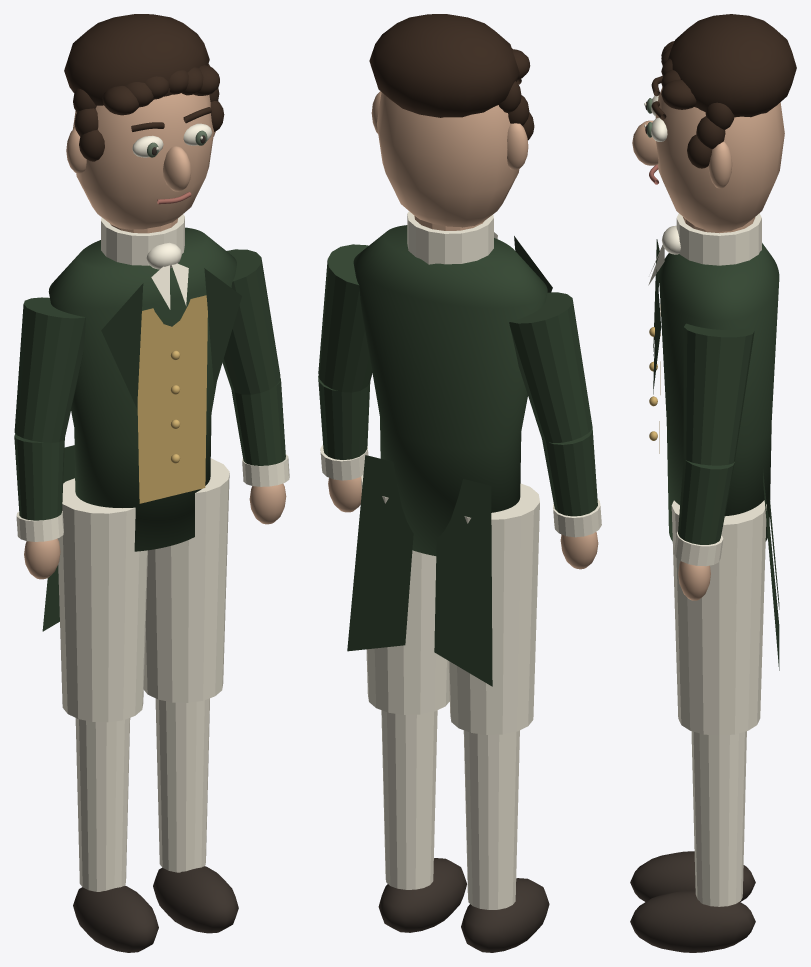
Rendered from darcy.glb.
The picture shows the model from 3 angles, left to right: view 1: azimuth 30°, elevation 25°; view 2: azimuth 150°, elevation 25°; view 3: azimuth 270°, elevation 25°; orthographic projection. The views are drawn at different scales.
Parts seen in each view (by area): view 1: darcy fitted coat, darcy breeches, darcy breeches.001, darcy waistcoat, darcy head, darcy stocking.001, darcy stocking, darcy hair crown, darcy sleeve upper, darcy sleeve upper.001, darcy shoe, darcy shoe.001 (+15 smaller); view 2: darcy fitted coat, darcy head, darcy breeches, darcy hair crown, darcy coat tail, darcy coat tail.001, darcy stocking.001, darcy stocking, darcy sleeve upper, darcy breeches.001, darcy sleeve upper.001, darcy shoe.001 (+9 smaller); view 3: darcy fitted coat, darcy breeches.001, darcy head, darcy hair crown, darcy stocking.001, darcy sleeve upper.001, darcy shoe.001, darcy sleeve lower.001, darcy high shirt collar, darcy shoe, darcy cuff.001, darcy hand.001 (+9 smaller).
Boxes of the visible parts, bbox=[...] form: darcy fitted coat: bbox=[48, 227, 236, 551]; darcy breeches: bbox=[57, 478, 147, 722]; darcy breeches.001: bbox=[143, 458, 229, 702]; darcy waistcoat: bbox=[137, 295, 207, 503]; darcy head: bbox=[72, 93, 213, 229]; darcy stocking.001: bbox=[155, 698, 209, 872]; darcy stocking: bbox=[75, 718, 130, 891]; darcy hair crown: bbox=[64, 14, 209, 105]; darcy sleeve upper: bbox=[14, 297, 85, 442]; darcy sleeve upper.001: bbox=[222, 249, 280, 394]; darcy shoe: bbox=[73, 885, 158, 952]; darcy shoe.001: bbox=[153, 866, 238, 933]; darcy fitted coat: bbox=[353, 225, 547, 555]; darcy head: bbox=[377, 92, 519, 227]; darcy breeches: bbox=[448, 483, 539, 734]; darcy hair crown: bbox=[369, 14, 519, 117]; darcy coat tail: bbox=[434, 479, 492, 686]; darcy coat tail.001: bbox=[347, 455, 413, 651]; darcy stocking.001: bbox=[381, 710, 437, 889]; darcy stocking: bbox=[463, 730, 519, 909]; darcy sleeve upper: bbox=[509, 292, 592, 442]; darcy breeches.001: bbox=[361, 474, 449, 714]; darcy sleeve upper.001: bbox=[318, 244, 372, 392]; darcy shoe.001: bbox=[378, 858, 466, 932]; darcy fitted coat: bbox=[659, 243, 779, 541]; darcy breeches.001: bbox=[671, 500, 766, 735]; darcy head: bbox=[655, 87, 784, 231]; darcy hair crown: bbox=[668, 14, 796, 117]; darcy stocking.001: bbox=[691, 731, 746, 906]; darcy sleeve upper.001: bbox=[683, 323, 754, 465]; darcy shoe.001: bbox=[630, 890, 755, 952]; darcy sleeve lower.001: bbox=[678, 458, 734, 544]; darcy high shirt collar: bbox=[676, 213, 761, 265]; darcy shoe: bbox=[630, 851, 755, 901]; darcy cuff.001: bbox=[674, 531, 723, 566]; darcy hand.001: bbox=[678, 561, 710, 600].
Bounding box in the file's own units: 0.566 × 1.83 × 0.305.
